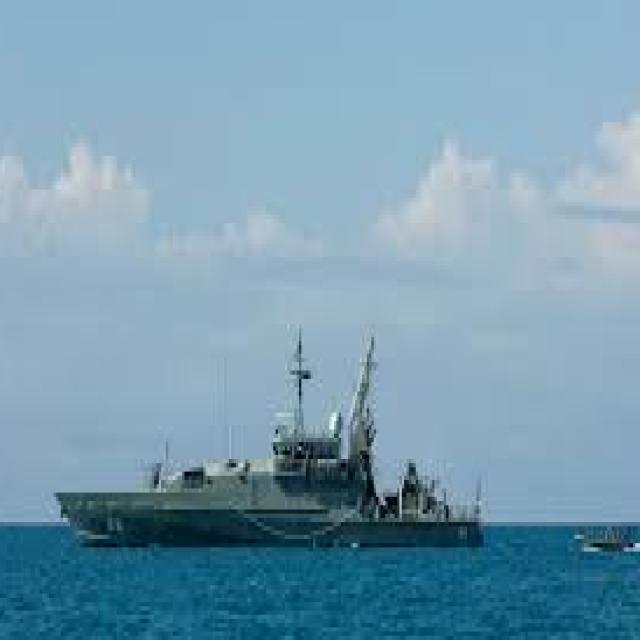navalvessels: (56, 300, 503, 554)
